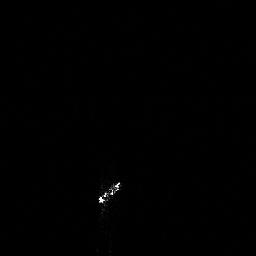ship: (97, 179, 122, 212)
